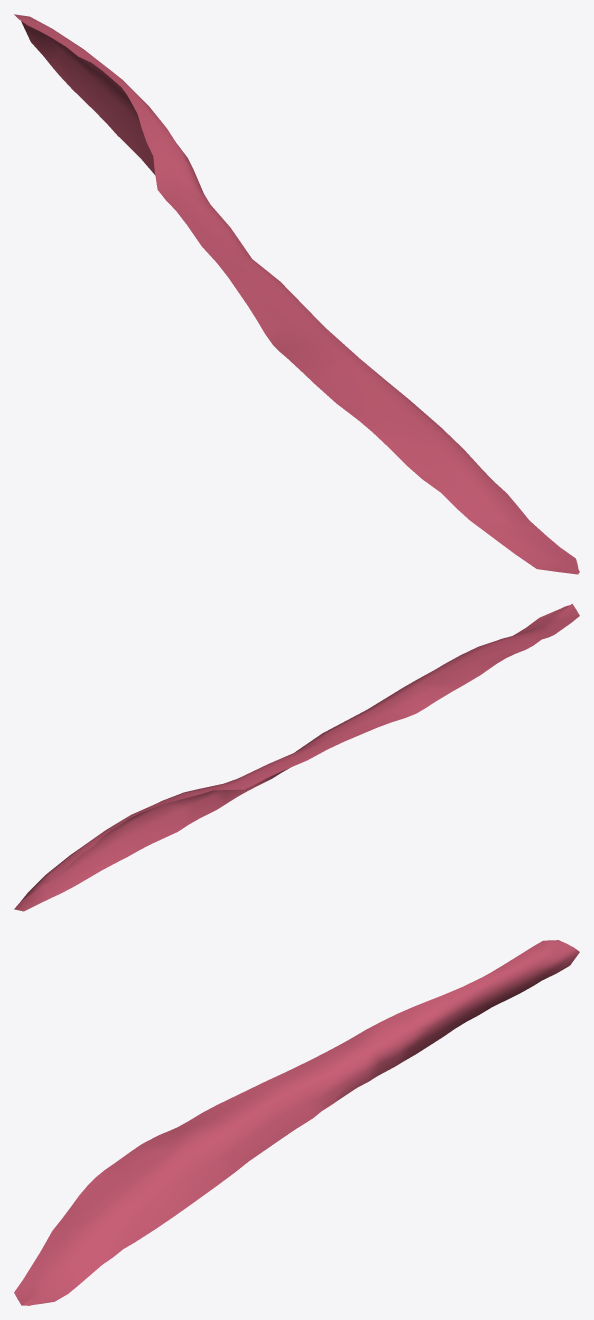
3 views of the same model, one above another, from view 1: azimuth 30°, elevation 25°; view 2: azimuth 150°, elevation 25°; view 3: azimuth 330°, elevation 25° (orthographic). The views are drawn at different scales.
Visible parts, largest first — view 1: 右侧小腿后肌间隔; view 2: 右侧小腿后肌间隔; view 3: 右侧小腿后肌间隔.
Boxes of the visible parts, left/top/right/bottom form: 右侧小腿后肌间隔: left=14, top=14, right=579, bottom=574; 右侧小腿后肌间隔: left=14, top=603, right=579, bottom=911; 右侧小腿后肌间隔: left=14, top=940, right=579, bottom=1305.
Bounding box in the file's own units: 0.0639 × 0.0292 × 0.4289.
